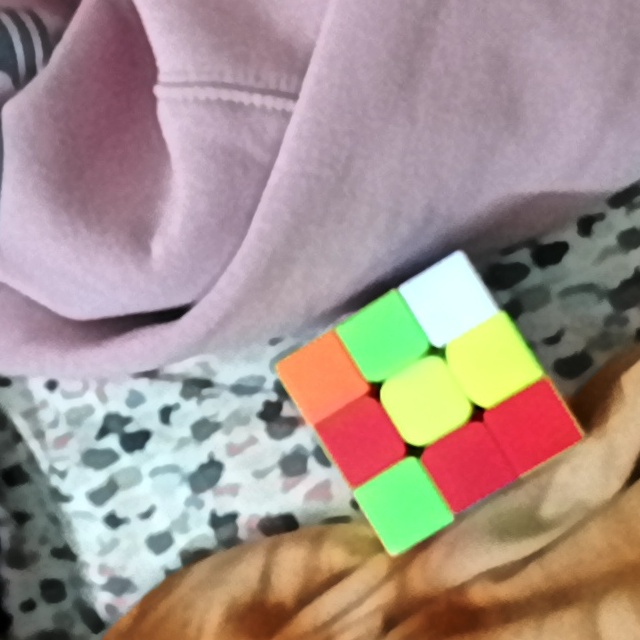tile: (465, 335, 517, 388), (401, 377, 453, 428), (376, 479, 427, 531), (335, 417, 387, 467), (503, 402, 555, 452), (441, 439, 490, 490), (422, 274, 472, 323), (295, 355, 345, 403), (361, 315, 409, 362)
